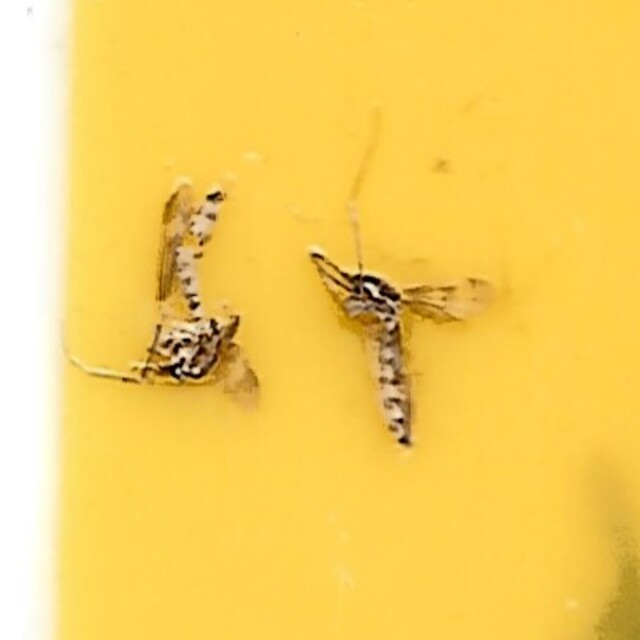Nematocera: (307, 243, 501, 463), (139, 177, 260, 413)
